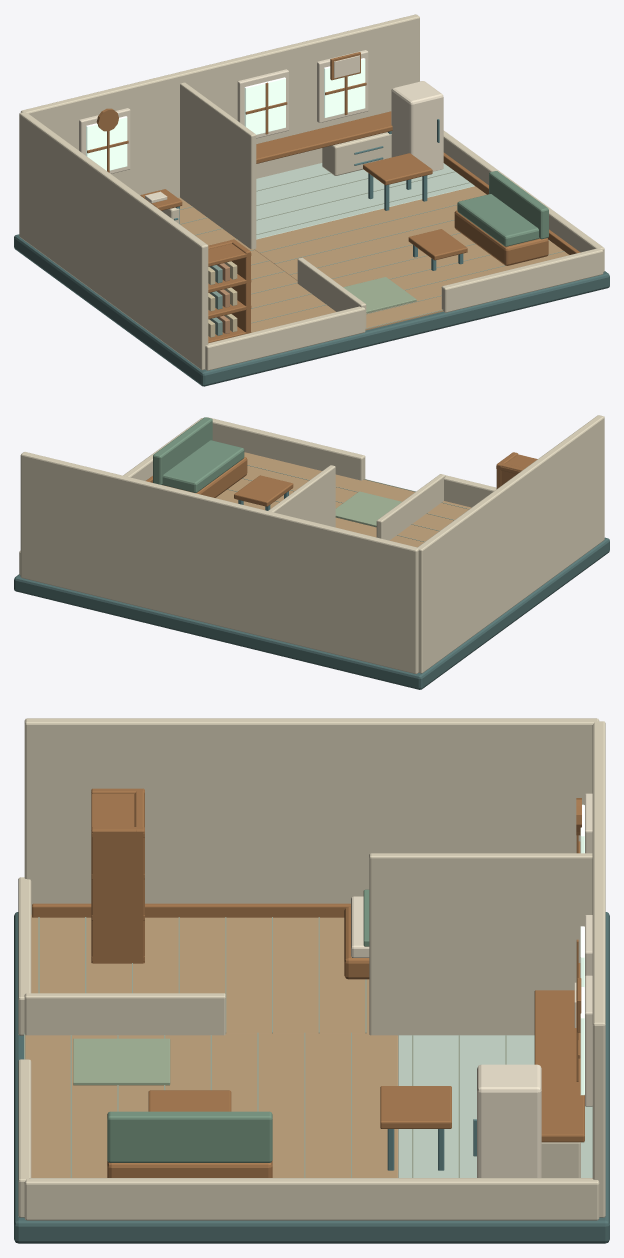
The model's file is interior-home-3.glb.
The picture shows the model from 3 angles, top to bottom: view 1: azimuth 30°, elevation 25°; view 2: azimuth 150°, elevation 25°; view 3: azimuth 270°, elevation 25°; orthographic projection. The views are drawn at different scales.
Parts seen in each view (by area): view 1: Surface Warm plaster, Surface Oak floor, Surface Honey oak, Interior plinth, Room floor.002, Surface Linen, Surface Daylight, Surface Sage upholstery, Surface Floor seam, Welcome rug, Surface Steel, Surface Book2; view 2: Surface Warm plaster, Interior plinth, Surface Oak floor, Surface Sage upholstery, Surface Honey oak, Welcome rug, Surface Floor seam; view 3: Surface Warm plaster, Surface Oak floor, Surface Honey oak, Interior plinth, Room floor.002, Surface Linen, Surface Sage upholstery, Welcome rug, Surface Floor seam, Surface Daylight, Surface Steel.
Part boxes in pixels (x1,y1,x2,y2): Surface Warm plaster: (19, 14, 604, 370); Surface Oak floor: (178, 186, 569, 332); Surface Honey oak: (87, 52, 580, 343); Interior plinth: (14, 234, 609, 386); Room floor.002: (256, 163, 474, 239); Surface Linen: (79, 50, 443, 203); Surface Daylight: (86, 58, 365, 170); Surface Sage upholstery: (457, 171, 548, 246); Surface Floor seam: (180, 171, 564, 328); Welcome rug: (343, 277, 416, 313); Surface Steel: (174, 119, 463, 270); Surface Book2: (208, 261, 237, 337); Surface Warm plaster: (19, 415, 604, 673); Interior plinth: (14, 537, 609, 689); Surface Oak floor: (215, 452, 471, 547); Surface Sage upholstery: (153, 417, 244, 492); Surface Honey oak: (146, 452, 537, 506); Welcome rug: (335, 491, 401, 527); Surface Floor seam: (227, 465, 469, 541); Surface Warm plaster: (18, 718, 605, 1220); Surface Oak floor: (25, 914, 398, 1177); Surface Honey oak: (32, 788, 584, 1177); Interior plinth: (14, 912, 609, 1243); Room floor.002: (398, 1035, 592, 1177); Surface Linen: (351, 793, 592, 1177); Surface Sage upholstery: (107, 889, 369, 1162); Welcome rug: (73, 1038, 170, 1085); Surface Floor seam: (24, 917, 506, 1177); Surface Daylight: (580, 804, 584, 1095); Surface Steel: (387, 1119, 476, 1170).
Size of the model in its own units: 10.3 by 3.33 by 8.3.
